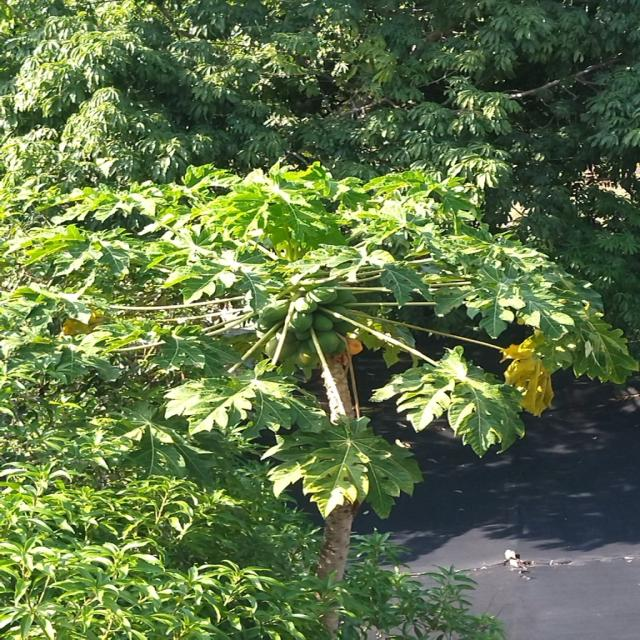Papaya-Tree: (92, 158, 640, 548)
